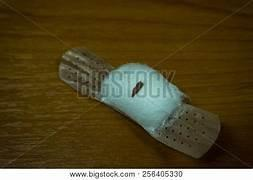Bandage: (59, 49, 219, 157)
cotton: (101, 63, 182, 130)
